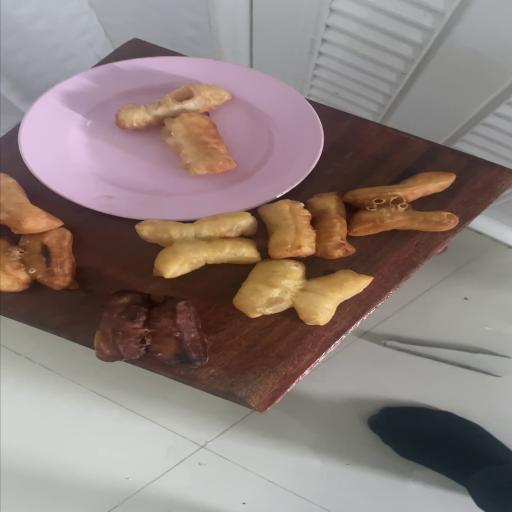street_burnt_defect: (93, 290, 209, 368)
street_golden_good: (136, 212, 259, 278)
